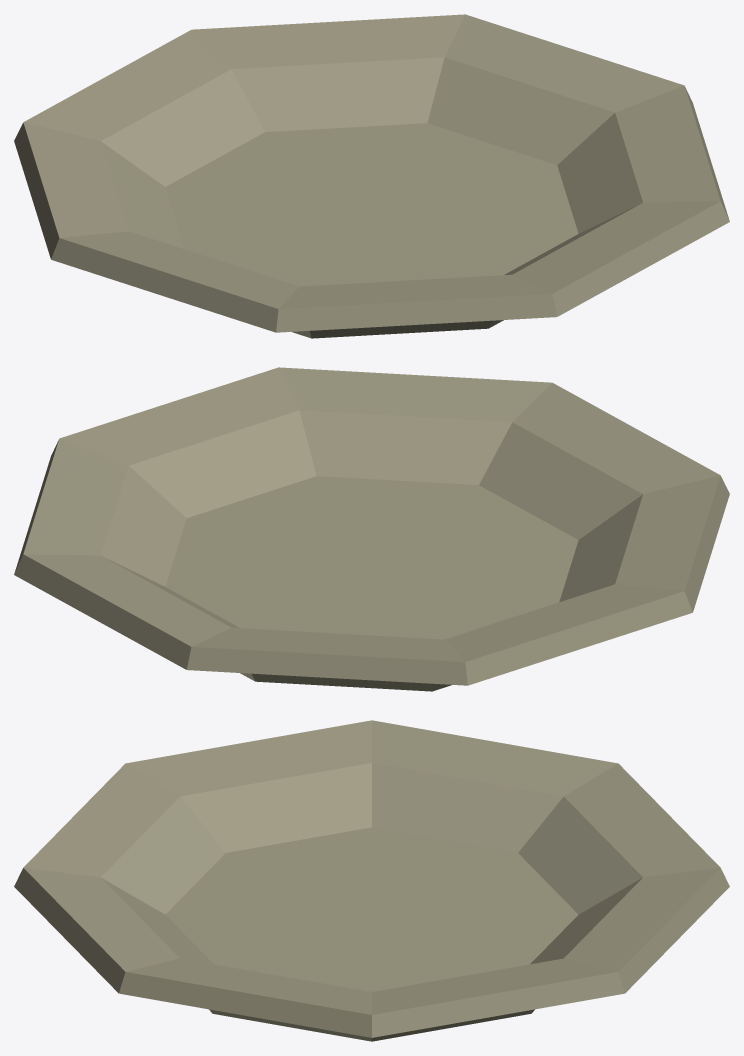
File: Plate_2.fbx
The picture shows the model from 3 angles, top to bottom: view 1: azimuth 30°, elevation 25°; view 2: azimuth 150°, elevation 25°; view 3: azimuth 270°, elevation 25°; orthographic projection. The views are drawn at different scales.
Parts seen in each view (by area): view 1: Plate_2; view 2: Plate_2; view 3: Plate_2.
Boxes of the visible parts, bbox=[...] form: Plate_2: bbox=[14, 14, 729, 338]; Plate_2: bbox=[14, 367, 729, 691]; Plate_2: bbox=[14, 720, 729, 1041].
Size of the model in its own units: 30.36 by 3.69 by 30.36.
